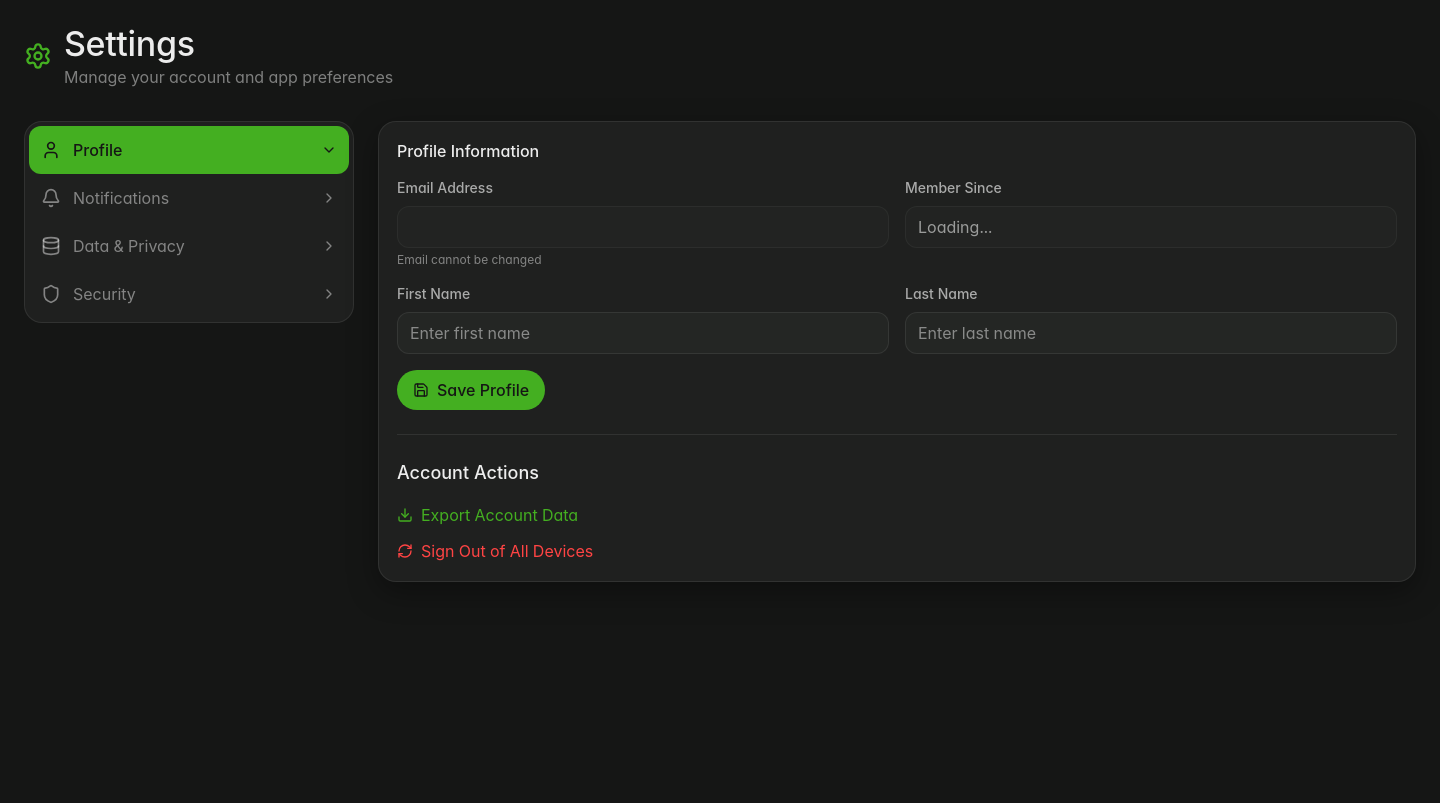
Test case: Google Drive backup settings › should keep existing email delivery until Drive is connected and explicitly selected
Click the button "Data & Privacy". click: click(129, 246)
box: [29,222,349,270]
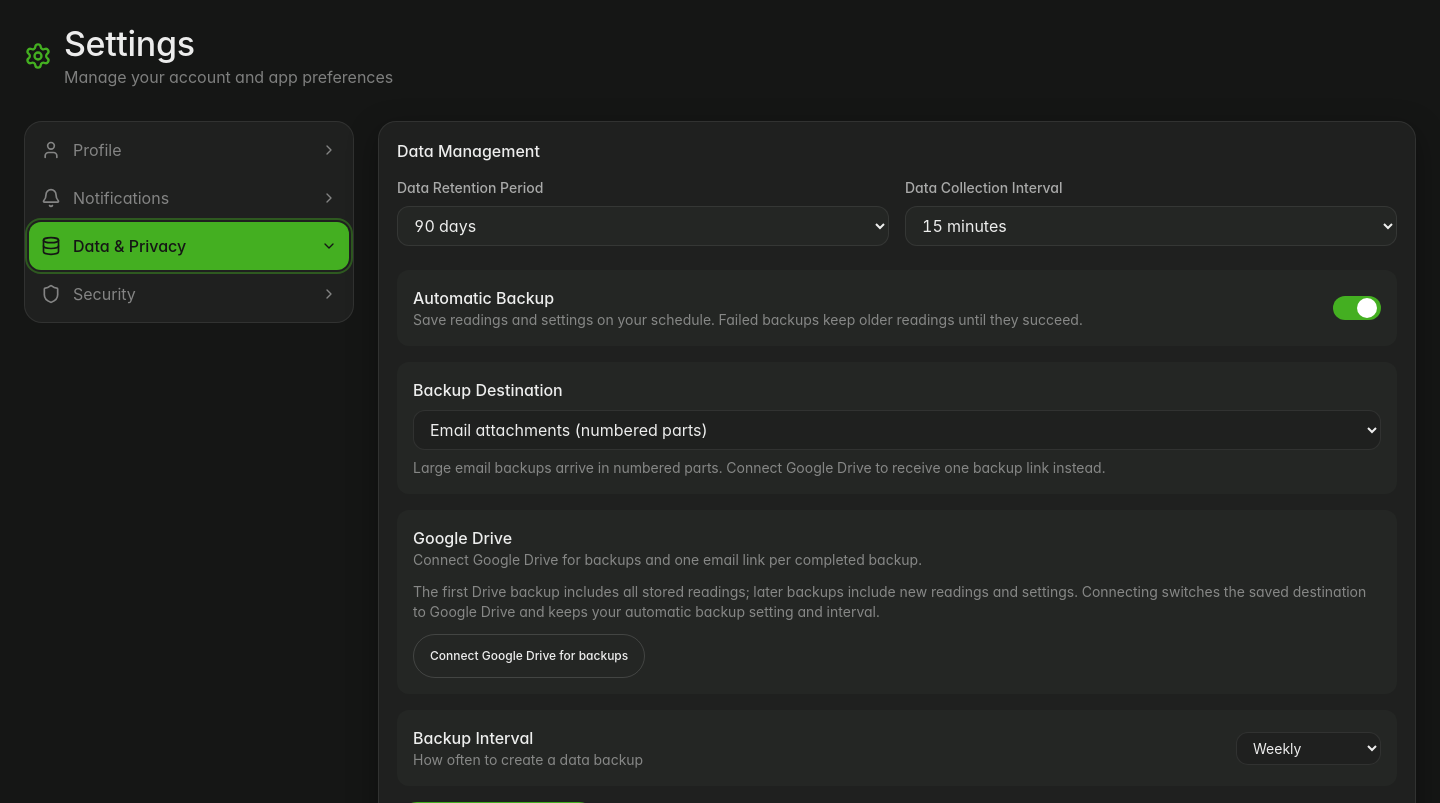
Check: the dropdown labelled "Backup Destination" shows "Email attachments (numbered parts)", box [413,410,1381,450]
Check: the button "Connect Google Drive for backups" is enabled, box [413,634,645,678]
